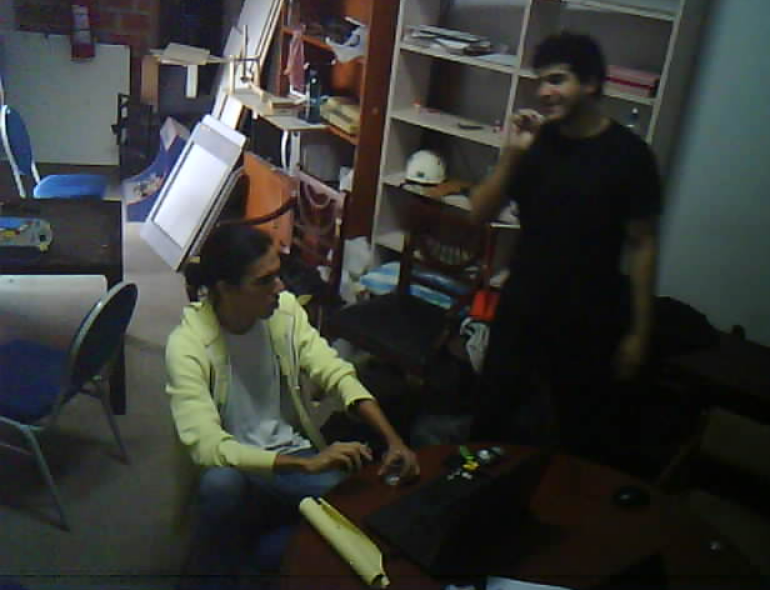person: (137, 204, 435, 589), (456, 20, 673, 477)
